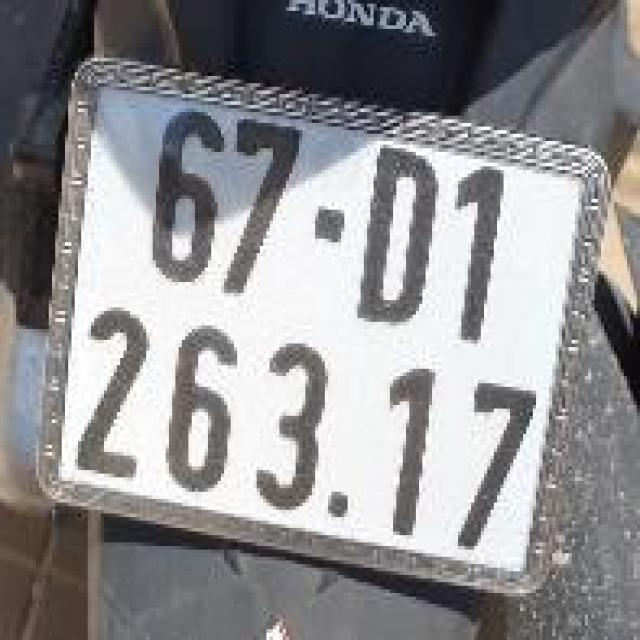1: (370, 356, 442, 552), (448, 154, 514, 356)
2: (70, 302, 151, 493)
3: (249, 329, 333, 510)
6: (143, 106, 224, 294), (160, 320, 240, 501)
7: (216, 112, 310, 311), (452, 367, 539, 551)
D: (354, 136, 442, 334)
